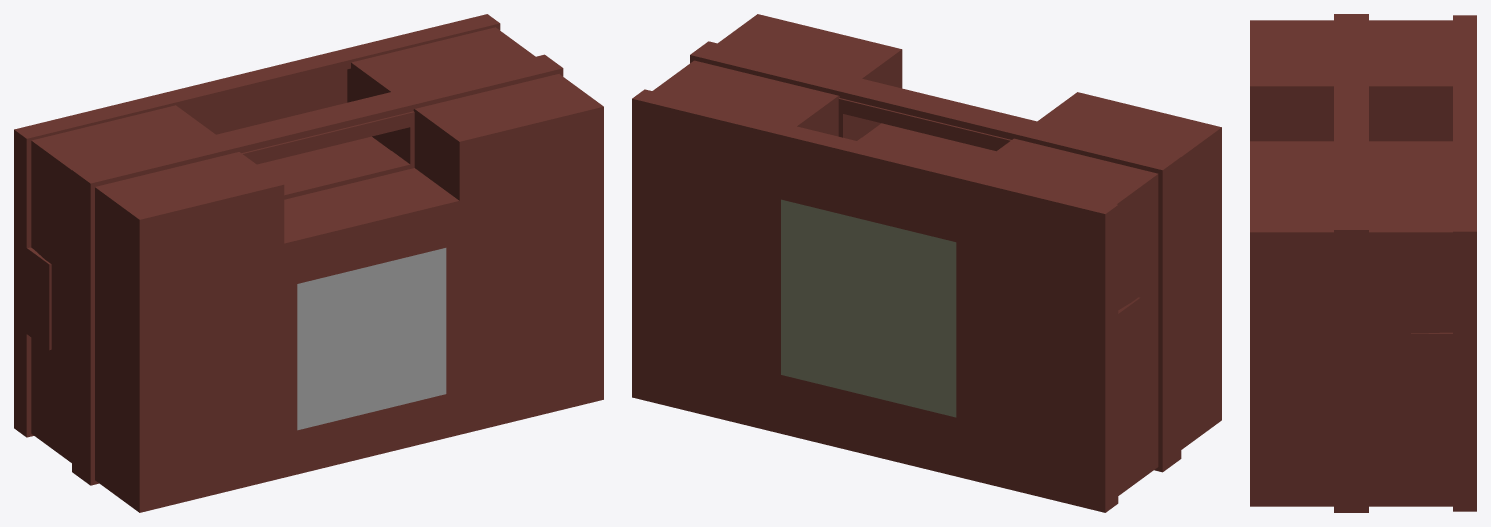
The model's file is verbanddoos.fbx.
3 renders of one model, left to right at view 1: azimuth 30°, elevation 25°; view 2: azimuth 150°, elevation 25°; view 3: azimuth 270°, elevation 25°, orthographic. The views are drawn at different scales.
Visible parts, largest first — view 1: pCube10; view 2: pCube10; view 3: pCube10.
Part boxes in pixels (x1=…): pCube10: x1=14, y1=14, x2=603, y2=512; pCube10: x1=632, y1=14, x2=1221, y2=512; pCube10: x1=1250, y1=14, x2=1476, y2=512.
Size of the model in its own units: 2.26 by 1.38 by 1.
